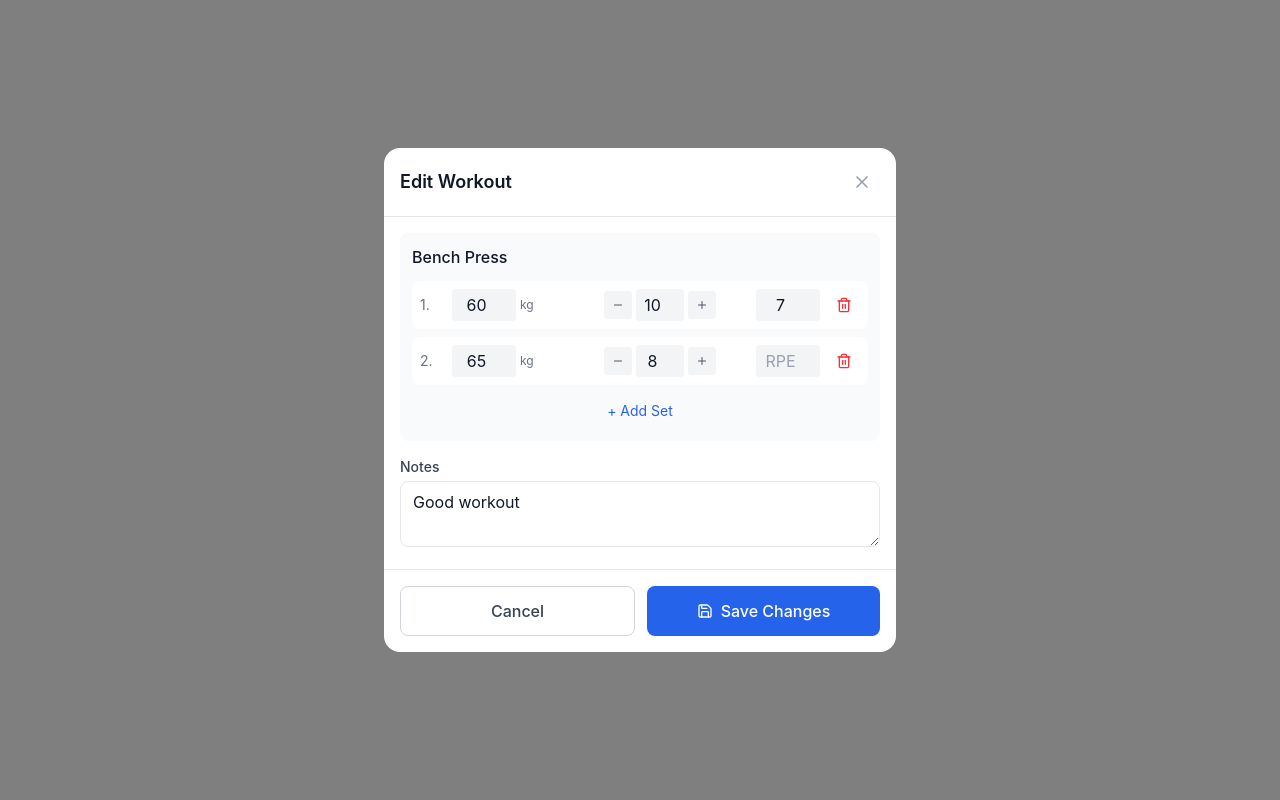
EditWorkoutModal › should remove set when delete button is clicked
Click the 1st button named "Delete set".
click(844, 305)  # box x1=828 y1=289 x2=860 y2=321
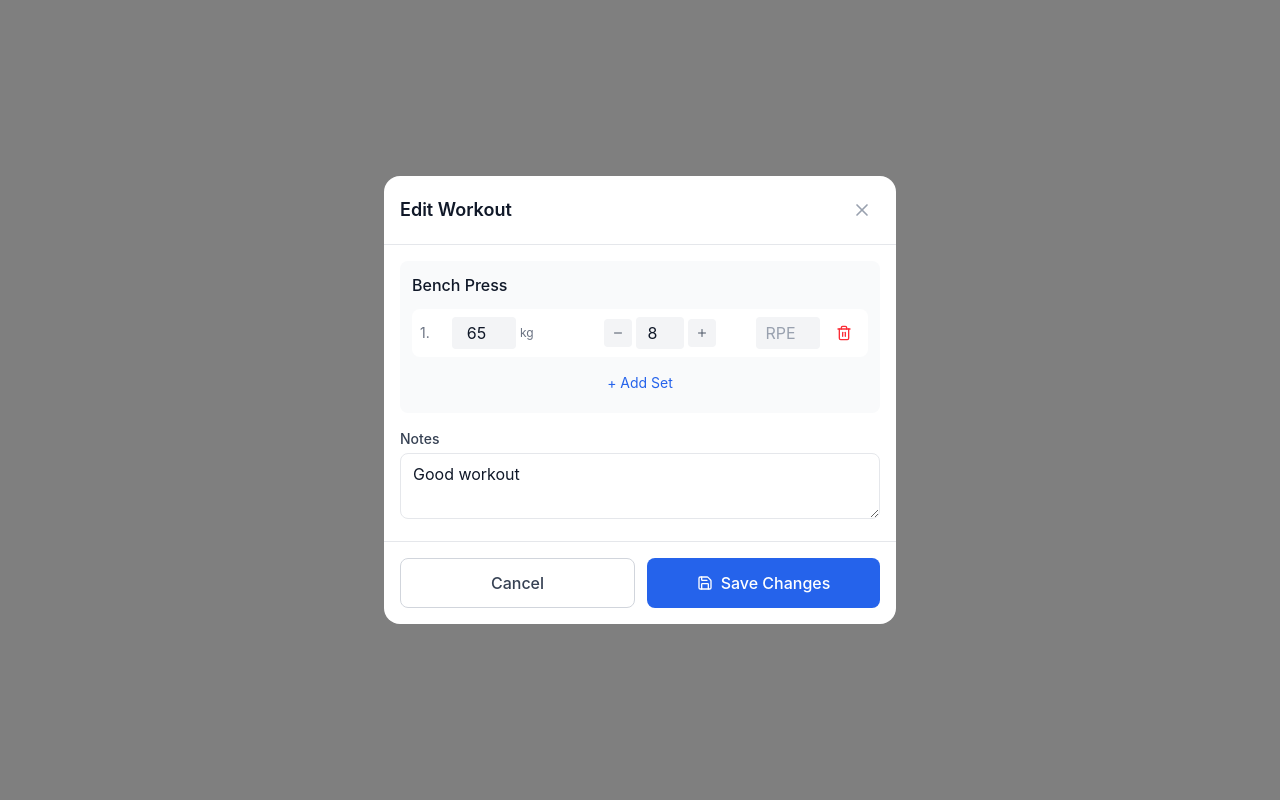
Expected: the number of buttons named "Delete set" is 1, x1=828 y1=317 x2=860 y2=349
